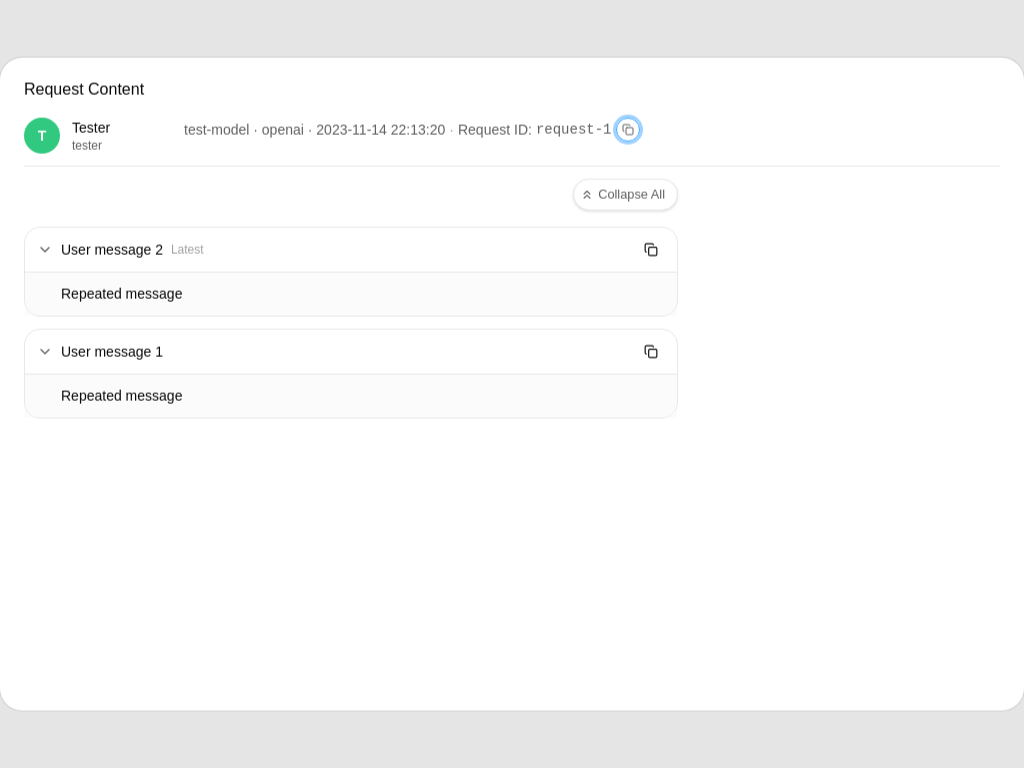
Test: request content copy feedback › only marks the clicked message as copied when contents are identical
Click the button titled "Copy to clipboard" in the row of "Latest": (651, 250) [637,236,665,264]
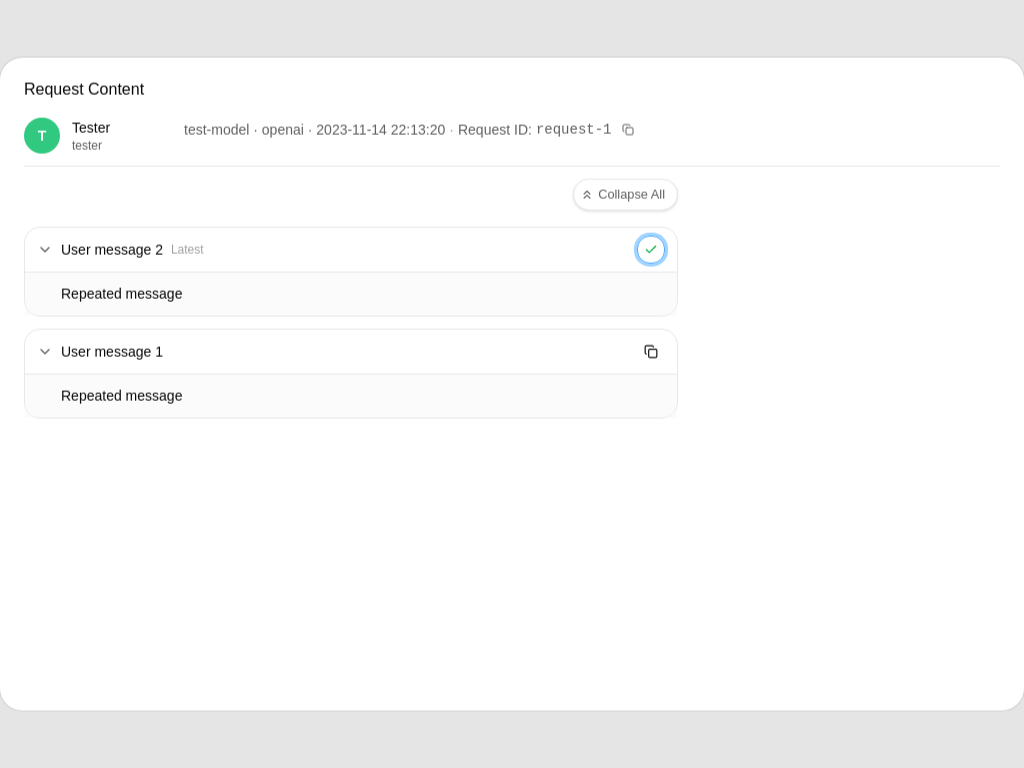
expect the 2nd icon with class "lucide-copy" is shown: met, box [644,344,658,358]
expect the icon with class "lucide-check" is shown: met, box [644,243,658,257]
